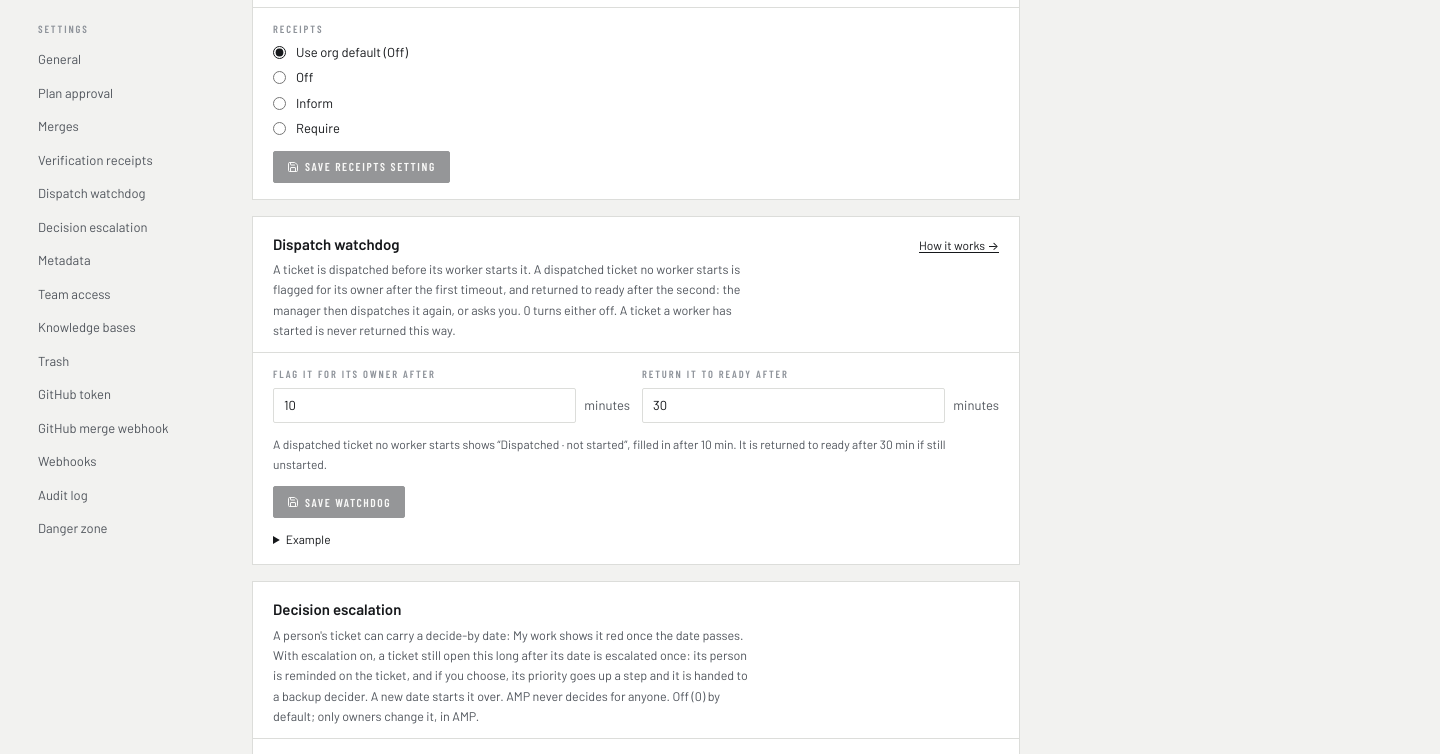
Test: ProjectSettings dispatch watchdog › saves both minutes together, and only when they changed
(page scrolled)
expect the button "Save watchdog" is disabled: met, box [273,486,405,518]
Type "5" into the field labelled "Flag it for its owner after" at {"x": 425, "y": 406}, box [273,388,576,423]
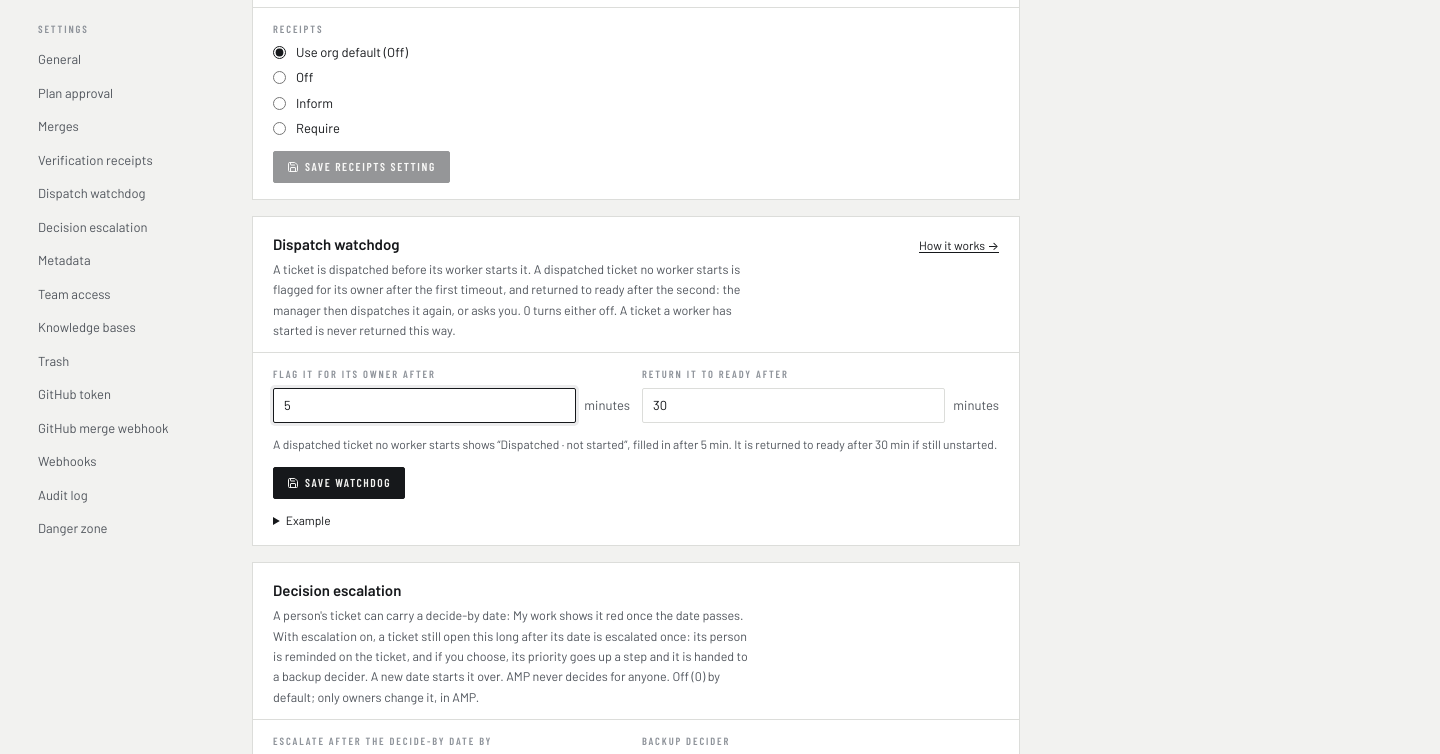
expect the button "Save watchdog" is enabled: met
Click the button "Save watchdog" at {"x": 339, "y": 483}, box [273,467,405,499]
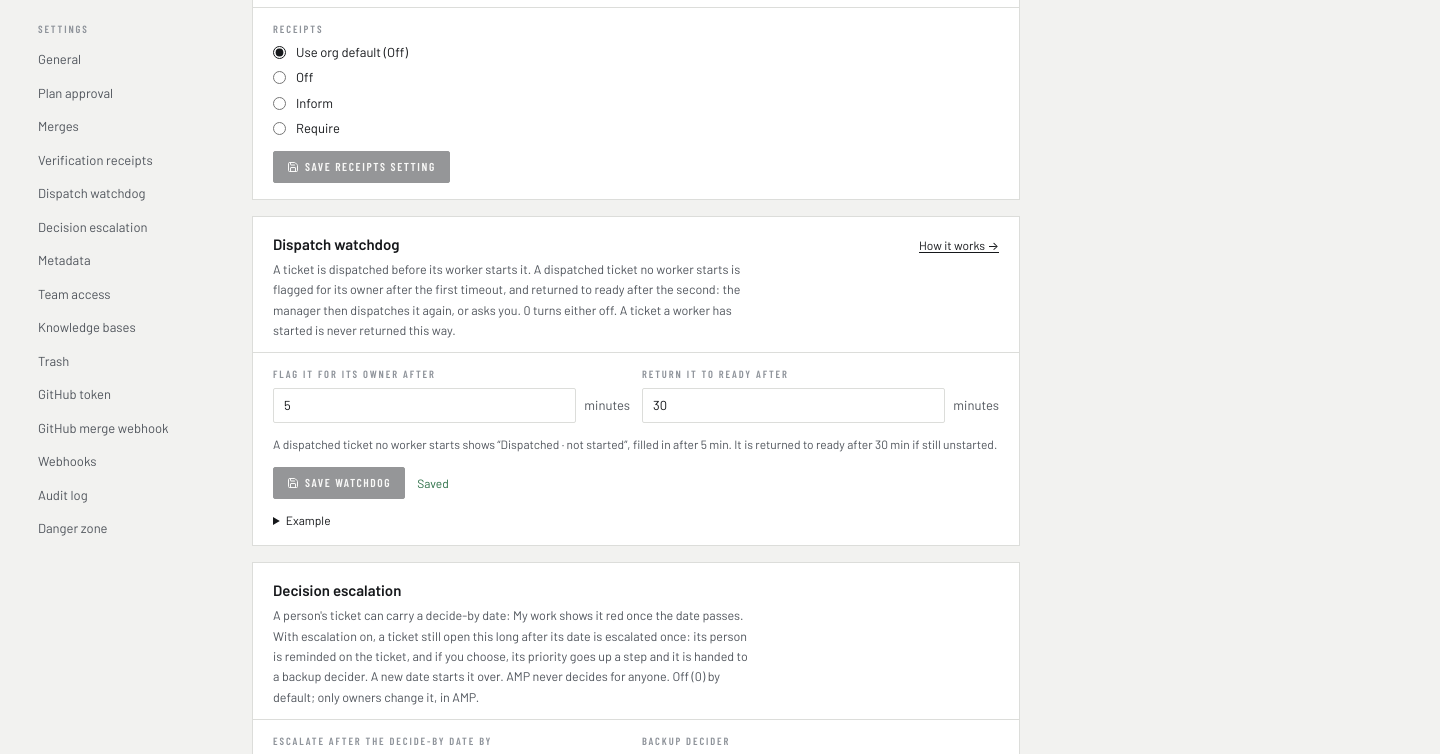
expect the text "Saved" is shown: met, box [417,475,449,491]
